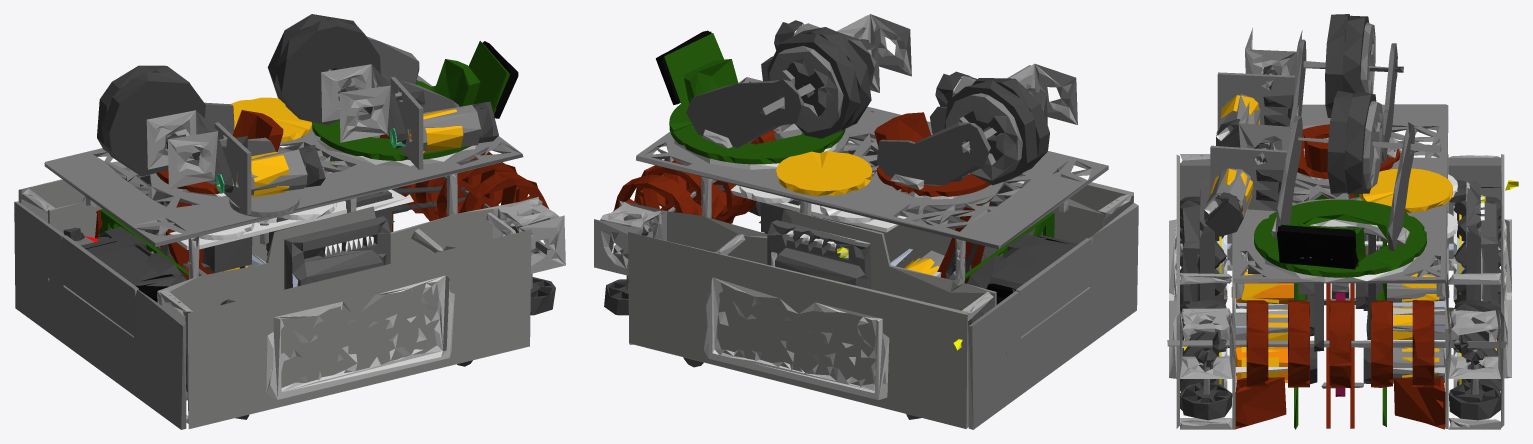
Rendered from sirius-shadow-low.glb.
The picture shows the model from 3 angles, left to right: view 1: azimuth 30°, elevation 25°; view 2: azimuth 150°, elevation 25°; view 3: azimuth 270°, elevation 25°; orthographic projection. The views are drawn at different scales.
Visible parts, largest first — view 1: body, turret2, turret, flywheel2, flywheel, intake_front, intake_right; view 2: body, turret2, turret, flywheel2, flywheel, intake_front, intake_left; view 3: body, turret2, intake_front, turret, flywheel2, flywheel, intake_left, intake_right, wheel_bl, wheel_fl, wheel_fr, wheel_br.
Boxes of the visible parts, x1,y1,x2,y2 form: body: (14,75,565,429); turret2: (311,36,518,169); turret: (146,102,325,214); flywheel2: (267,14,380,125); flywheel: (97,65,205,176); intake_front: (379,134,552,254); intake_right: (530,247,555,315); body: (594,77,1138,429); turret2: (656,14,911,164); turret: (874,63,1077,196); flywheel2: (767,27,871,138); flywheel: (944,78,1049,185); intake_front: (613,124,787,253); intake_left: (604,249,628,315); body: (1169,104,1518,429); turret2: (1204,102,1441,277); intake_front: (1167,300,1507,388); turret: (1216,28,1403,178); flywheel2: (1327,90,1383,194); flywheel: (1325,14,1375,117); intake_left: (1448,348,1500,420); intake_right: (1180,348,1232,420); wheel_bl: (1453,196,1500,305); wheel_fl: (1451,300,1500,391); wheel_fr: (1180,300,1229,410); wheel_br: (1180,196,1227,305).
Size of the model in its own units: 0.4126 by 0.2931 by 0.3216.
